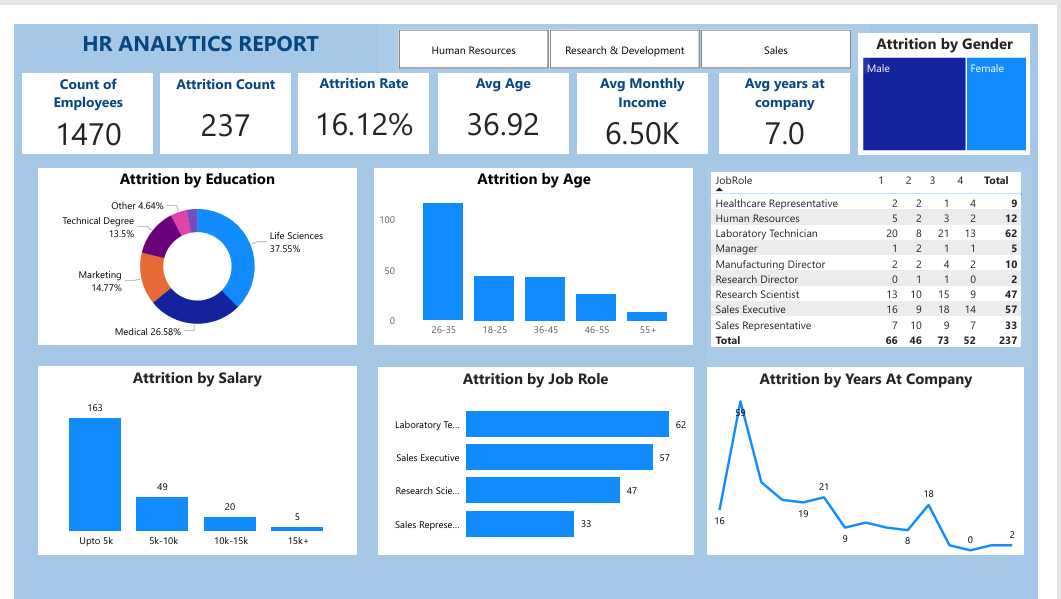

The page's visual inventory and layout, read from the dashboard file:
{"tool":"powerbi","page":{"name":"Page 1","canvas":[1280,720],"ordinal":0},"visuals":[{"type":"textbox","box":[0,0,704.4,45.4],"z":0},{"type":"card","title":"Count of Employees","fields":{"Values":["CountNonNull(HR_Analytics.EmpID)"]},"box":[11.3,62.3,163,100],"z":1000},{"type":"card","title":"Attrition Count","fields":{"Values":["Sum(HR_Analytics.Attrition_count)"]},"box":[182.8,62.4,163,100.6],"z":2000},{"type":"card","title":"Attrition Rate","fields":{"Values":["HR_Analytics.Attrition_rate"]},"box":[355.7,60.9,163,100.6],"z":3000},{"type":"card","title":"Avg Age","fields":{"Values":["Avg(HR_Analytics.Age)"]},"box":[530.1,60.9,163,100.6],"z":4000},{"type":"card","title":"Avg Monthly Income","fields":{"Values":["Avg(HR_Analytics.MonthlyIncome)"]},"box":[704.4,60.9,163,100.6],"z":5000},{"type":"card","title":"Avg years at company","fields":{"Values":["Avg(HR_Analytics.YearsAtCompany)"]},"box":[881.6,60.9,163,100.6],"z":6000},{"type":"donutChart","title":"Attrition by Education","fields":{"Category":["HR_Analytics.EducationField"],"Y":["Sum(HR_Analytics.Attrition_count)"]},"box":[29.8,180,398.3,219.7],"z":7000},{"type":"clusteredColumnChart","title":"Attrition by Age","fields":{"Category":["HR_Analytics.AgeGroup"],"Y":["Sum(HR_Analytics.Attrition_count)"]},"box":[450.7,180,398.3,219.7],"z":8000},{"type":"pivotTable","fields":{"Rows":["HR_Analytics.JobRole"],"Columns":["HR_Analytics.JobSatisfaction"],"Values":["Sum(HR_Analytics.Attrition_count)"]},"box":[867.4,180,405.4,249.4],"z":9000},{"type":"clusteredColumnChart","title":"Attrition by Salary ","fields":{"Category":["HR_Analytics.SalarySlab"],"Y":["Sum(HR_Analytics.Attrition_count)"]},"box":[29.8,428,398.3,235.3],"z":10000},{"type":"clusteredBarChart","title":"Attrition by Job Role","fields":{"Y":["Sum(HR_Analytics.Attrition_count)"],"Category":["HR_Analytics.JobRole"]},"box":[455,429.4,394,233.9],"z":11000},{"type":"lineChart","title":"Attrition by Years At Company","fields":{"Y":["Sum(HR_Analytics.Attrition_count)"],"Category":["HR_Analytics.YearsAtCompany"]},"box":[867.4,429.4,395.4,233.9],"z":12000},{"type":"treemap","title":" Attrition by Gender","fields":{"Group":["HR_Analytics.Gender"],"Values":["Sum(HR_Analytics.Attrition_count)"]},"box":[1055.9,11.3,215.4,151.7],"z":12001},{"type":"slicer","fields":{"Values":["HR_Analytics.Department"]},"box":[455,0,615.1,62.4],"z":12002}]}

Visuals, with their boxes in screenshot pixels (x1, y1, x2, y2), scaled from the page's 1280x720 canvas onto the 1061x599 screenshot:
textbox: 0,0,584,38
"Count of Employees" card: 9,52,144,135
"Attrition Count" card: 152,52,287,136
"Attrition Rate" card: 295,51,430,134
"Avg Age" card: 439,51,575,134
"Avg Monthly Income" card: 584,51,719,134
"Avg years at company" card: 731,51,866,134
"Attrition by Education" donutChart: 25,150,355,333
"Attrition by Age" clusteredColumnChart: 374,150,704,333
pivotTable - HR_Analytics.JobRole x HR_Analytics.JobSatisfaction: 719,150,1055,357
"Attrition by Salary " clusteredColumnChart: 25,356,355,552
"Attrition by Job Role" clusteredBarChart: 377,357,704,552
"Attrition by Years At Company" lineChart: 719,357,1047,552
" Attrition by Gender" treemap: 875,9,1054,136
slicer - HR_Analytics.Department: 377,0,887,52
